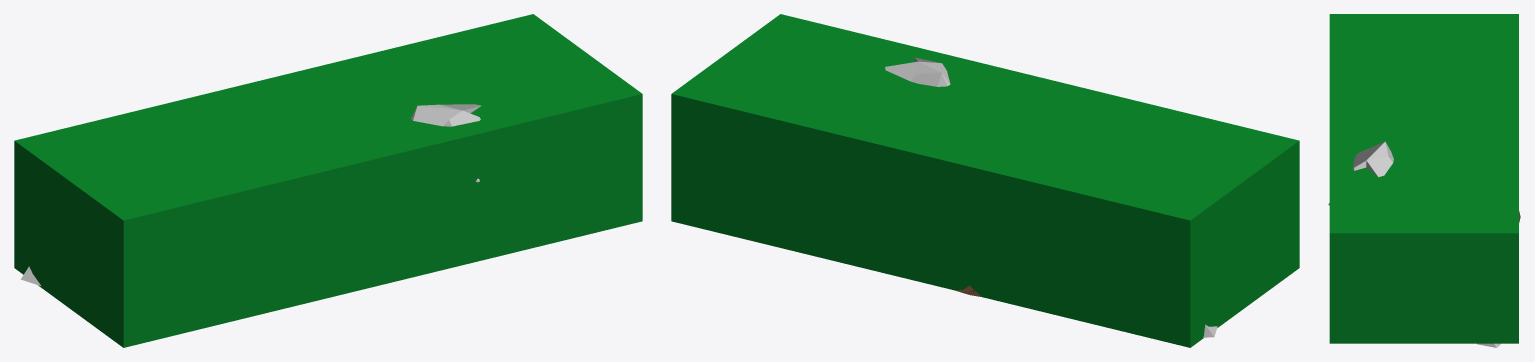
File: GrassMound_01.fbx
3 views of the same model, side by side, from view 1: azimuth 30°, elevation 25°; view 2: azimuth 150°, elevation 25°; view 3: azimuth 270°, elevation 25° (orthographic). The views are drawn at different scales.
Parts seen in each view (by area): view 1: COL_GrassMound_01, GrassMound_01; view 2: COL_GrassMound_01, GrassMound_01; view 3: COL_GrassMound_01, GrassMound_01.
Boxes of the visible parts, left/top/right/bottom form: COL_GrassMound_01: left=14, top=14, right=642, bottom=347; GrassMound_01: left=20, top=104, right=481, bottom=286; COL_GrassMound_01: left=671, top=14, right=1299, bottom=347; GrassMound_01: left=885, top=57, right=1217, bottom=337; COL_GrassMound_01: left=1329, top=14, right=1518, bottom=343; GrassMound_01: left=1328, top=141, right=1520, bottom=347.
Bounding box in the file's own units: 289 × 75.75 × 105.
